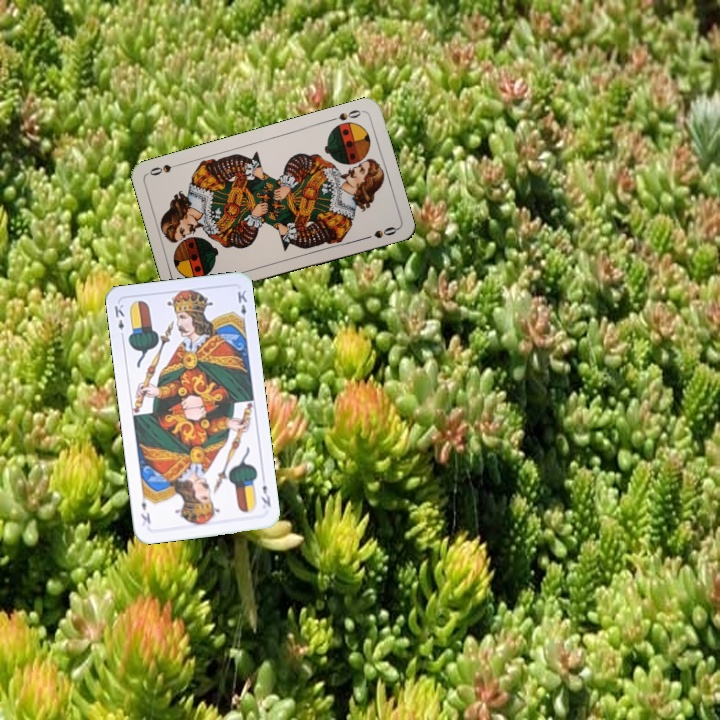EK: (110, 300, 127, 341), (257, 481, 273, 509)
SO: (326, 106, 366, 124)
